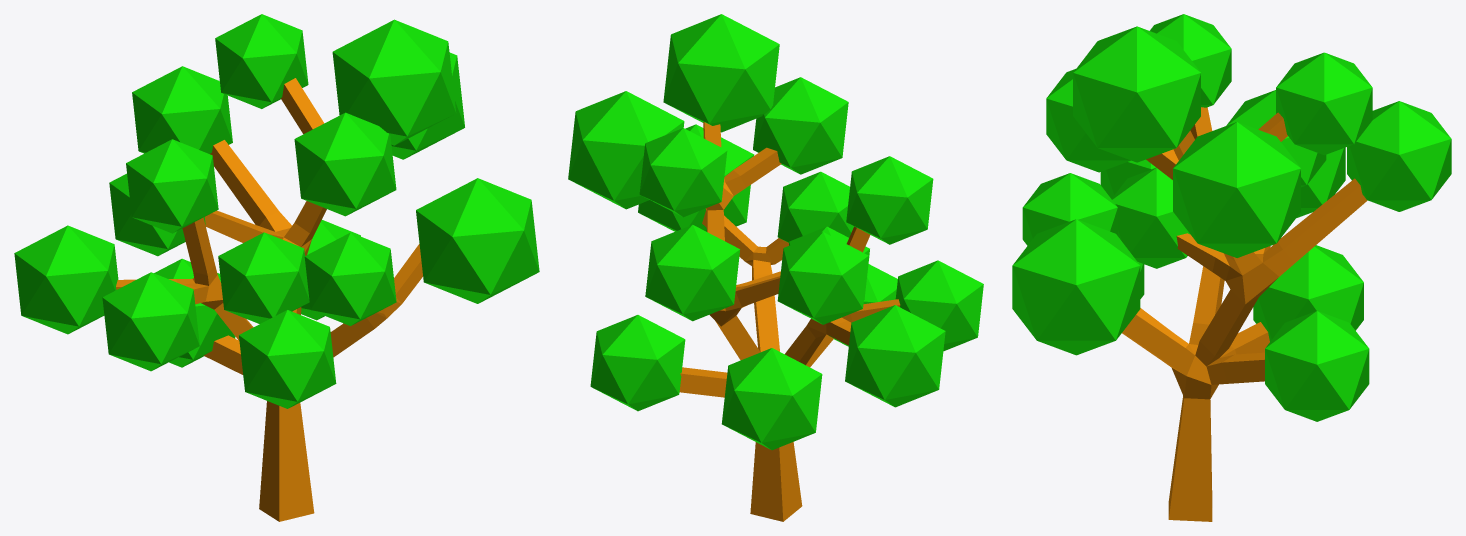
File: tree.glb
The picture shows the model from 3 angles, left to right: view 1: azimuth 30°, elevation 25°; view 2: azimuth 150°, elevation 25°; view 3: azimuth 270°, elevation 25°; orthographic projection. The views are drawn at different scales.
Parts seen in each view (by area): view 1: Tree; view 2: Tree; view 3: Tree.
Part boxes in pixels (<box>): Tree: <box>14,14,539,521</box>; Tree: <box>568,14,983,521</box>; Tree: <box>1012,14,1451,521</box>.
Size of the model in its own units: 3.04 by 3.46 by 2.6.
